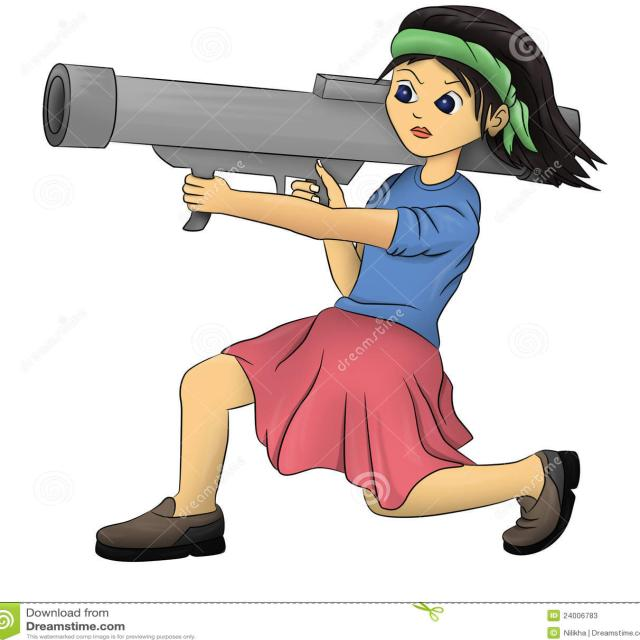Weapon: (43, 63, 424, 193)
